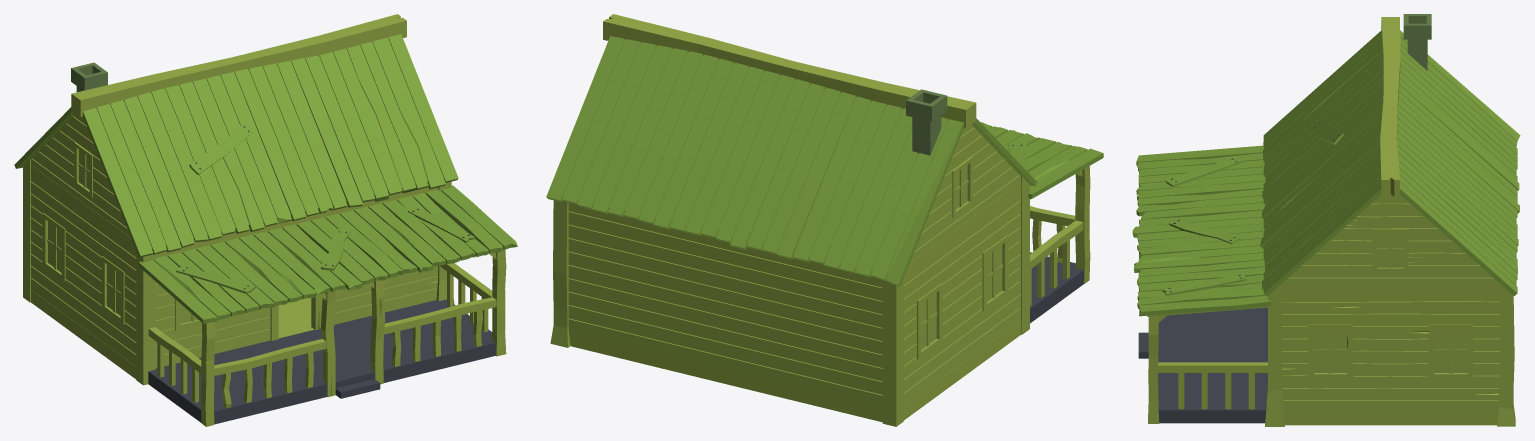
File: House_03.fbx
3 views of the same model, side by side, from view 1: azimuth 30°, elevation 25°; view 2: azimuth 150°, elevation 25°; view 3: azimuth 270°, elevation 25° (orthographic). The views are drawn at different scales.
Parts seen in each view (by area): view 1: House_03; view 2: House_03; view 3: House_03.
Part boxes in pixels (left/top/right/bottom): House_03: left=14, top=14, right=517, bottom=426; House_03: left=546, top=14, right=1103, bottom=426; House_03: left=1132, top=14, right=1520, bottom=426.
Bounding box in the file's own units: 7.99 × 6.01 × 8.06.
